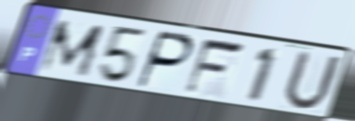1: (245, 47, 279, 105)
5: (95, 25, 151, 85)
F: (181, 37, 248, 97)
M: (36, 19, 108, 79)
P: (133, 29, 196, 91)
U: (280, 48, 345, 114)
